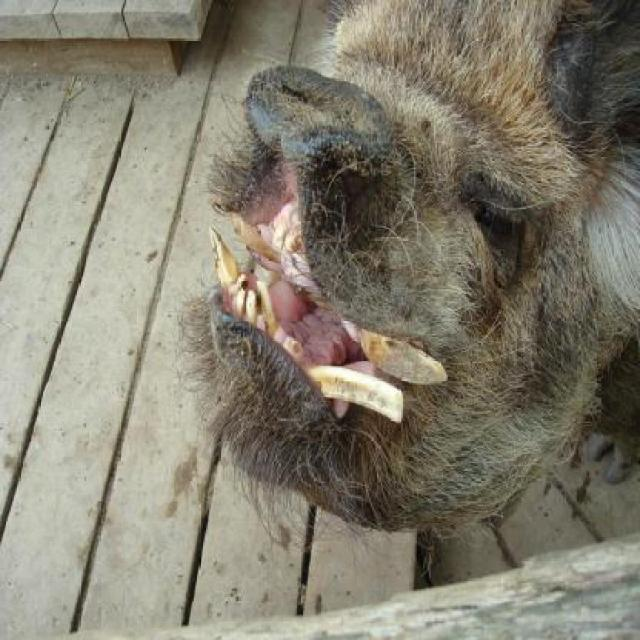pig: (160, 0, 640, 592)
